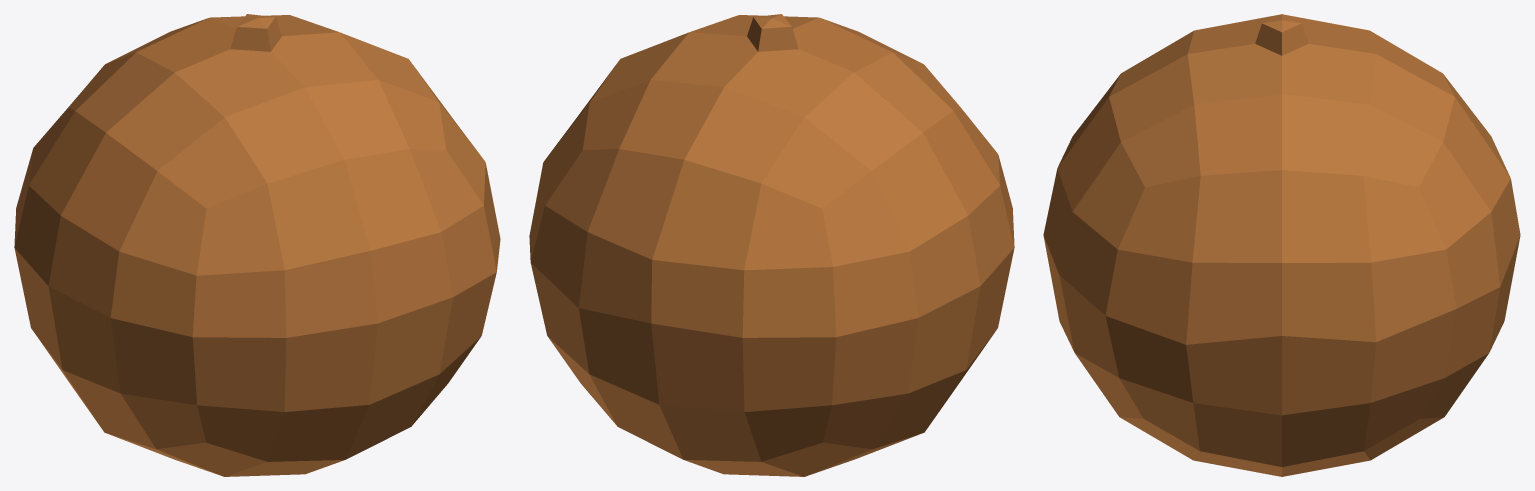
File: orange_crop.gltf
3 views of the same model, side by side, from view 1: azimuth 30°, elevation 25°; view 2: azimuth 150°, elevation 25°; view 3: azimuth 270°, elevation 25° (orthographic).
Visible parts, largest first — view 1: orange_crop; view 2: orange_crop; view 3: orange_crop.
Part boxes in pixels (x1=…): orange_crop: x1=14, y1=14, x2=500, y2=476; orange_crop: x1=529, y1=14, x2=1014, y2=476; orange_crop: x1=1043, y1=14, x2=1520, y2=476.
Bounding box in the file's own units: 0.1513 × 0.1508 × 0.1513.
Materials: 1 (1 with a texture image).
